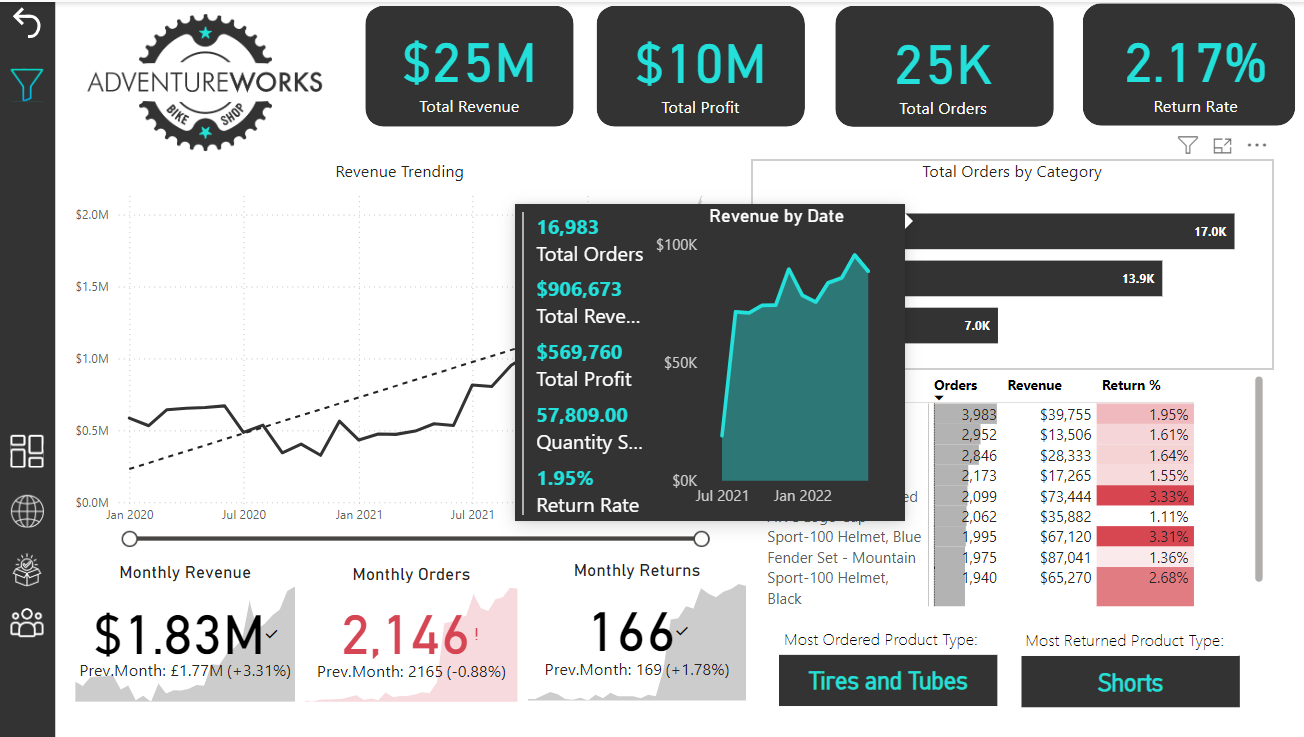

Layout of this report page (visuals, bound fields, positions):
{"tool":"powerbi","page":{"name":"Overview","canvas":[1280,720],"ordinal":0},"visuals":[{"type":"shape","title":"Left Nav bg","box":[0,0,55,720.2],"z":0,"group":"g7"},{"type":"shape","title":"Total Orders Background","box":[1060.1,1,207.9,119.8],"z":0,"group":"g2"},{"type":"group","id":"g1","title":"Return Rate","box":[358.3,2.9,203.9,118.3],"z":0,"group":"g3"},{"type":"shape","title":"Total Revenue Background","box":[584.8,2.9,203.9,118.3],"z":0,"group":"g5"},{"type":"shape","title":"Return Rate Background","box":[358.3,3.1,203.9,118.3],"z":0,"group":"g1"},{"type":"shape","title":"Total Profit Background","box":[818.2,3.1,214,118.6],"z":0,"group":"g4"},{"type":"lineChart","title":" Revenue Trending","fields":{"Category":["Calendar Lookup.Start of Month"],"Y":["Measure Lists.Total Revenue"]},"box":[69.7,154.1,644.4,381.5],"z":0},{"type":"kpi","title":"Monthly Revenue","fields":{"Indicator":["Measure Lists.Total Revenue"],"TrendLine":["Calendar Lookup.Start of Month"],"Goal":["Measure Lists.Previous Month Revenue"]},"box":[70.1,548.3,225,141.8],"z":0,"group":"g6"},{"type":"actionButton","title":"Reset Button","box":[0,0,55,40.4],"z":1000,"group":"g7"},{"type":"group","id":"g2","title":"Total Orders","box":[1060.1,1,220,122.3],"z":1000,"group":"g3"},{"type":"card","title":"Total Orders Card","fields":{"Values":["Measure Lists.Return Rate"]},"box":[1061.2,2.3,218.9,121.1],"z":1000,"group":"g2"},{"type":"card","title":"Return Rate Card","fields":{"Values":["Measure Lists.Total Revenue"]},"box":[358.3,2.9,203.9,118.3],"z":1000,"group":"g1"},{"type":"card","title":"Total Profit Card","fields":{"Values":["Measure Lists.Total Orders"]},"box":[817,3,214,122.3],"z":1000,"group":"g4"},{"type":"card","title":"Total Revenue Card","fields":{"Values":["Measure Lists.Total Profit"]},"box":[584.8,4.1,203.9,118.3],"z":1000,"group":"g5"},{"type":"clusteredBarChart","title":"Total Orders by Category","fields":{"Y":["Measure Lists.Total Orders"],"Category":["Product Categories Lookup.CategoryName"]},"box":[736.1,154.1,509.9,205.4],"z":1000},{"type":"kpi","title":"Monthly Orders","fields":{"TrendLine":["Calendar Lookup.Start of Month"],"Indicator":["Measure Lists.Total Orders"],"Goal":["Measure Lists.Previous Month Orders"]},"box":[295.1,549.1,217.7,140.6],"z":1000,"group":"g6"},{"type":"group","id":"g3","title":"KPis","box":[358.3,1,921.8,124.3],"z":2000},{"type":"group","id":"g4","title":"Total Profit","box":[817,3,215.2,122.3],"z":2000,"group":"g3"},{"type":"actionButton","title":"Filter Button","box":[0,61.1,55,40.4],"z":2000,"group":"g7"},{"type":"kpi","title":"Monthly Returns","fields":{"TrendLine":["Calendar Lookup.Start of Month"],"Indicator":["Measure Lists.Total Returns"],"Goal":["Measure Lists.Previous Month Returns"]},"box":[512.8,545.9,223.8,143.1],"z":2000,"group":"g6"},{"type":"group","id":"g5","title":"Total Revenue","box":[584.8,2.9,202.8,119.6],"z":3000,"group":"g3"},{"type":"pivotTable","fields":{"Rows":["Product Lookup.ProductName"],"Values":["Measure Lists.Total Orders","Measure Lists.Total Revenue","Measure Lists.Return Rate"]},"box":[738.6,360.7,506.3,247],"z":3000},{"type":"actionButton","title":"Customer Button","box":[0,587,55,40.4],"z":3000,"group":"g7"},{"type":"actionButton","title":"Products Button","box":[0,535.6,55,40.4],"z":4000,"group":"g7"},{"type":"group","id":"g6","title":"Monthly KPis","box":[70.1,545.9,666.4,144.3],"z":4000},{"type":"actionButton","title":"Map Button","box":[1.2,478.1,53.8,40.4],"z":5000,"group":"g7"},{"type":"card","title":"Most Ordered Card","fields":{"Values":["Min(Product Subcategories Lookup.SubcategoryName)"]},"box":[763,638.3,214,50.1],"z":5000},{"type":"actionButton","title":"Home Button","box":[0,419.4,55,40.4],"z":6000,"group":"g7"},{"type":"textbox","title":"Most Ordered Text box","box":[763,606.5,214,31.8],"z":6000},{"type":"card","title":"Most Returned Card ","fields":{"Values":["Min(Product Subcategories Lookup.SubcategoryName)"]},"box":[1000.3,639.5,214,50.1],"z":7000},{"type":"textbox","title":"Text box Most Returned","box":[999.1,607.7,214,31.8],"z":8000},{"type":"image","title":"Logo","box":[45.2,3.7,314.3,150.4],"z":9000},{"type":"group","id":"g7","title":"Side Bar Panel","box":[0,0,55,720.2],"z":10000}]}

Visuals, with their boxes on the page's 1280x720 design canvas (x1, y1, x2, y2). These are canvas units, not pixel positions in the 1304x737 screenshot, which may show the page scaled, cropped or inside an application window:
"Left Nav bg" shape: 0 0 55 720
"Total Orders Background" shape: 1060 1 1268 121
"Return Rate" group: 358 3 562 121
"Total Revenue Background" shape: 585 3 789 121
"Return Rate Background" shape: 358 3 562 121
"Total Profit Background" shape: 818 3 1032 122
" Revenue Trending" lineChart: 70 154 714 536
"Monthly Revenue" kpi: 70 548 295 690
"Reset Button" actionButton: 0 0 55 40
"Total Orders" group: 1060 1 1280 123
"Total Orders Card" card: 1061 2 1280 123
"Return Rate Card" card: 358 3 562 121
"Total Profit Card" card: 817 3 1031 125
"Total Revenue Card" card: 585 4 789 122
"Total Orders by Category" clusteredBarChart: 736 154 1246 360
"Monthly Orders" kpi: 295 549 513 690
"KPis" group: 358 1 1280 125
"Total Profit" group: 817 3 1032 125
"Filter Button" actionButton: 0 61 55 102
"Monthly Returns" kpi: 513 546 737 689
"Total Revenue" group: 585 3 788 122
pivotTable - Product Lookup.ProductName x Measure Lists.Total Orders: 739 361 1245 608
"Customer Button" actionButton: 0 587 55 627
"Products Button" actionButton: 0 536 55 576
"Monthly KPis" group: 70 546 736 690
"Map Button" actionButton: 1 478 55 518
"Most Ordered Card" card: 763 638 977 688
"Home Button" actionButton: 0 419 55 460
"Most Ordered Text box" textbox: 763 606 977 638
"Most Returned Card " card: 1000 640 1214 690
"Text box Most Returned" textbox: 999 608 1213 640
"Logo" image: 45 4 360 154
"Side Bar Panel" group: 0 0 55 720
